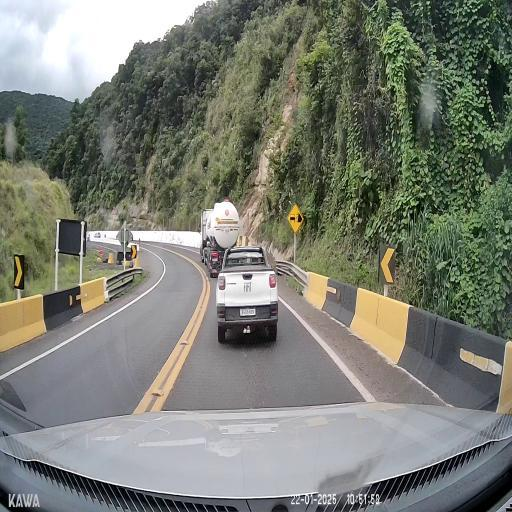A-27: (287, 202, 304, 234)
